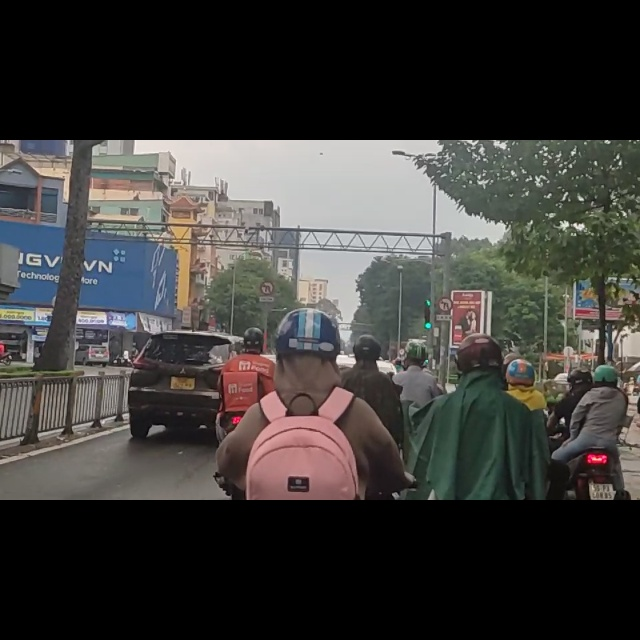bien_cam: (258, 247, 275, 276), (437, 280, 453, 308)
